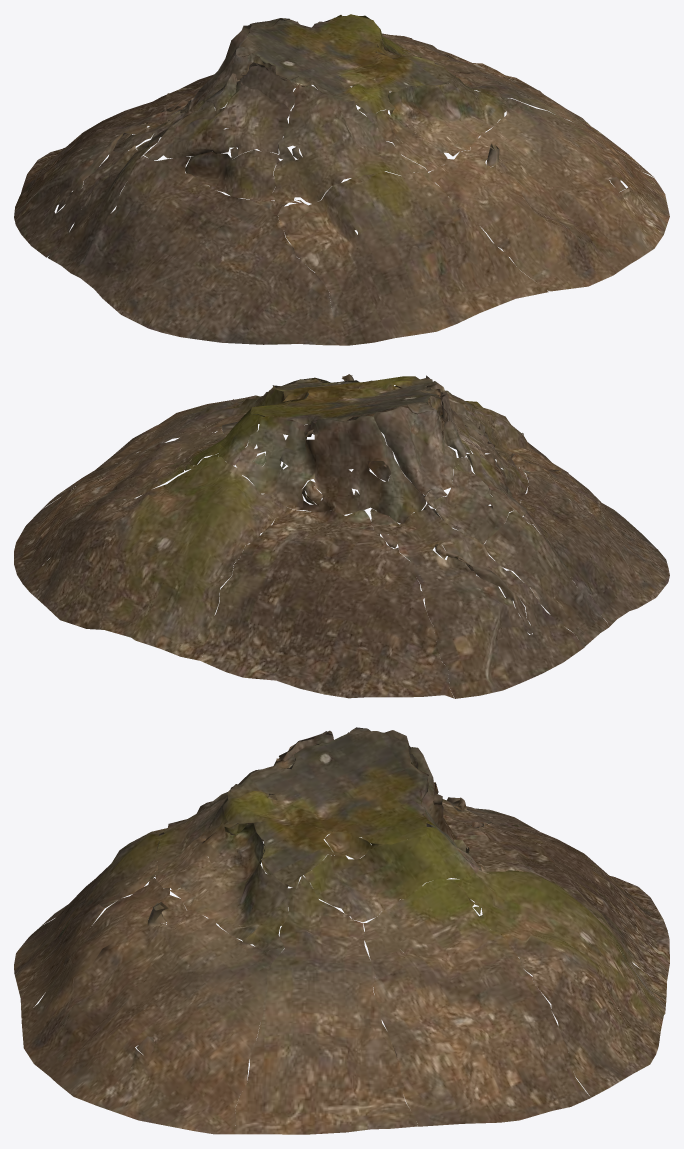
Rendered from tree_stump_02.gltf.
3 renders of one model, top to bottom at view 1: azimuth 30°, elevation 25°; view 2: azimuth 150°, elevation 25°; view 3: azimuth 270°, elevation 25°, orthographic. The views are drawn at different scales.
Visible parts, largest first — view 1: tree_stump_02; view 2: tree_stump_02; view 3: tree_stump_02.
Part boxes in pixels (box(x1,y1,x2,y2)): tree_stump_02: box(14, 14, 669, 345); tree_stump_02: box(14, 374, 669, 698); tree_stump_02: box(14, 727, 669, 1134).
Size of the model in its own units: 1.52 by 0.5201 by 1.39.
1 material, 1 textured.
